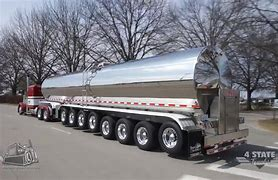oil truck: (15, 45, 250, 159)
